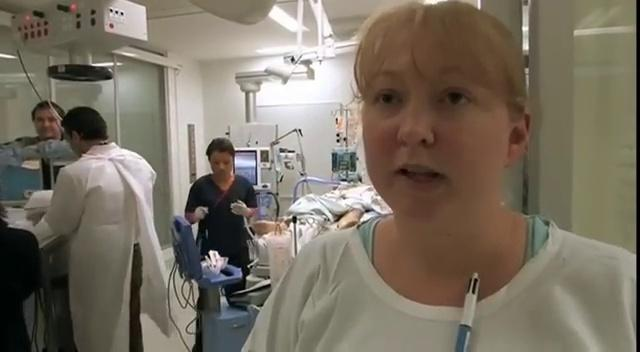doctor: (24, 104, 173, 352)
nurse: (176, 134, 259, 277)
others: (236, 0, 637, 349), (22, 96, 71, 162)
patient: (253, 179, 393, 233)
